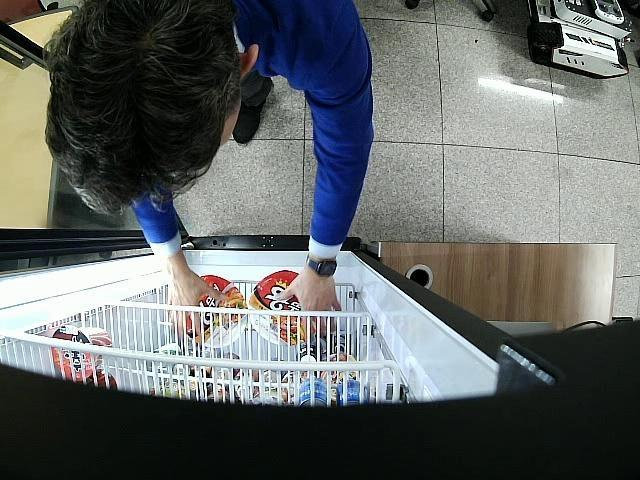10_wangTtukkeong: (248, 270, 317, 346), (186, 274, 246, 348)
